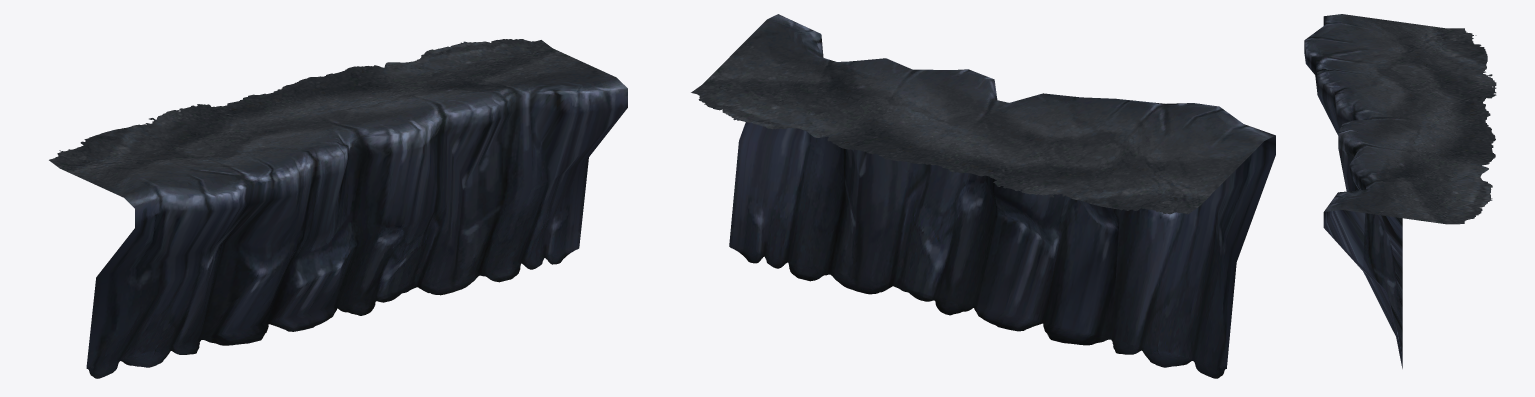
File: mine_trim_straight_02.fbx
3 renders of one model, left to right at view 1: azimuth 30°, elevation 25°; view 2: azimuth 150°, elevation 25°; view 3: azimuth 270°, elevation 25°, orthographic. The views are drawn at different scales.
Parts seen in each view (by area): view 1: mine_tileset/mine_trim_01_mat; view 2: mine_tileset/mine_trim_01_mat; view 3: mine_tileset/mine_trim_01_mat.
Boxes of the visible parts, x1,y1,x2,y2 form: mine_tileset/mine_trim_01_mat: (49,39,627,378); mine_tileset/mine_trim_01_mat: (691,14,1275,378); mine_tileset/mine_trim_01_mat: (1304,14,1496,368).
Size of the model in its own units: 4 by 1.68 by 1.87.
